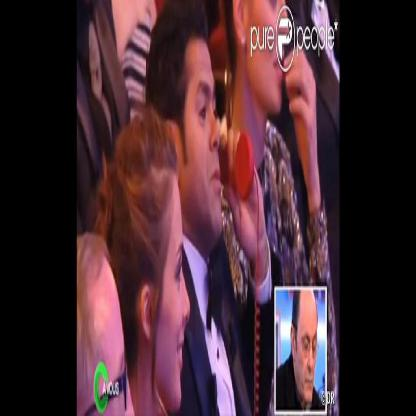face: (150, 171, 191, 411), (78, 266, 135, 416), (180, 42, 223, 239), (247, 1, 289, 113), (78, 28, 103, 144), (297, 291, 318, 403)
